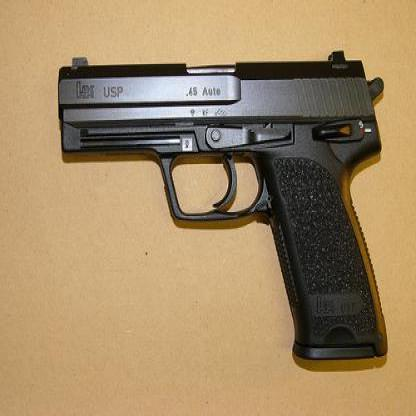pistol: (57, 48, 388, 357)
